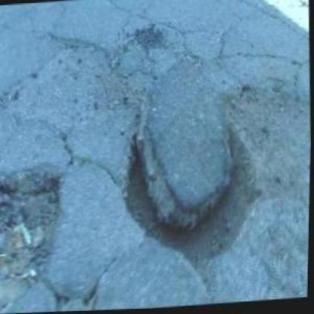Hueco: (119, 105, 267, 281), (0, 165, 70, 293)
